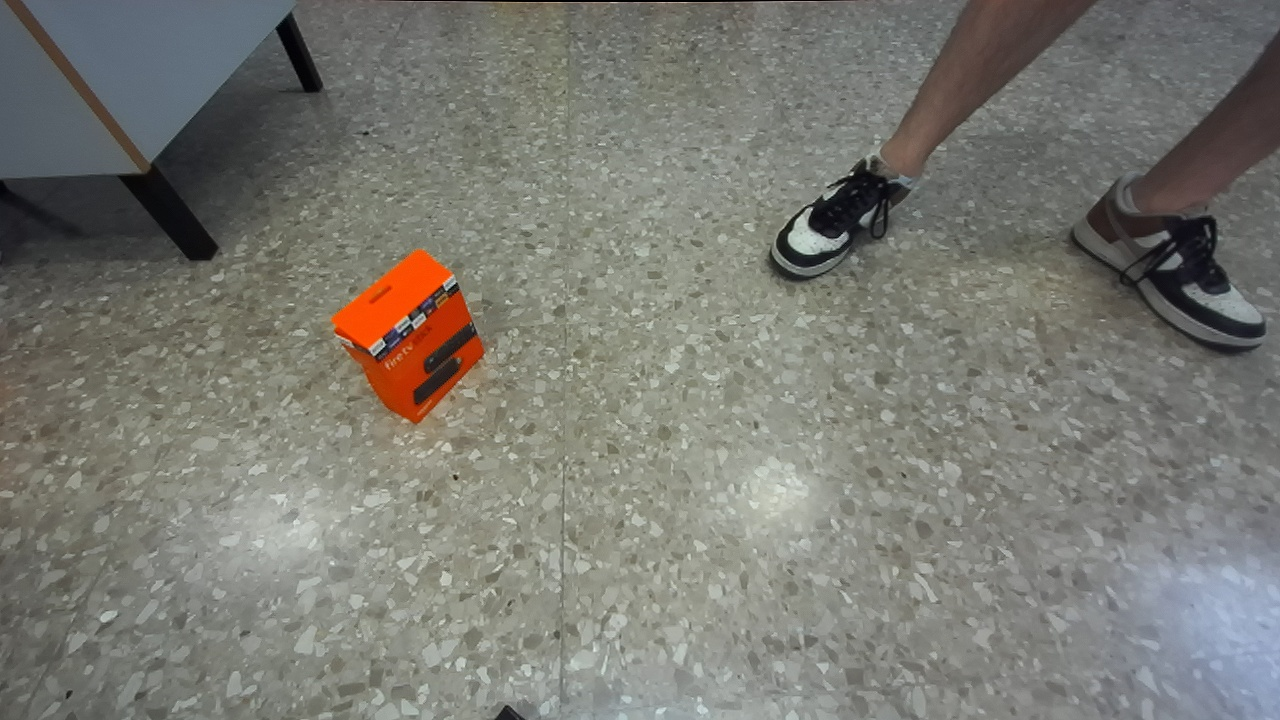caja_manguera: (332, 249, 482, 422)
